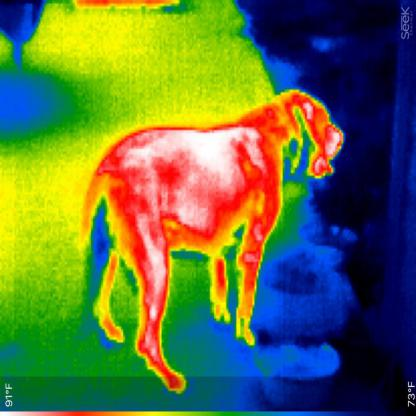dog: (80, 85, 345, 395)
